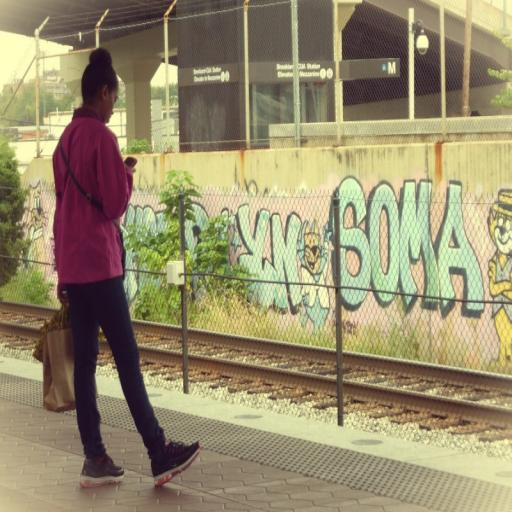platform_edge: (201, 402, 512, 511)
